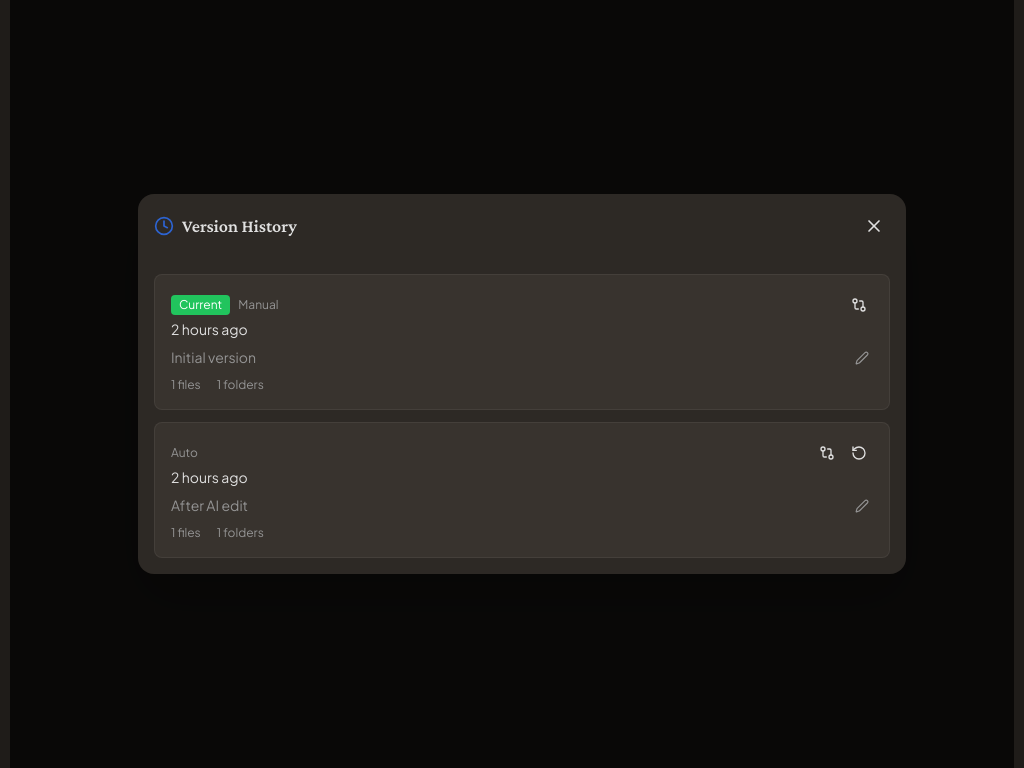
Test: VersionHistoryPanel › selects snapshot for comparison
Check: the text "Initial version" is shown, box [171,348,256,366]
# Click first compare button - use the translated title text
Click the button titled "Select for comparison" in the row of "Manual": x=859, y=305 [845,291,873,319]
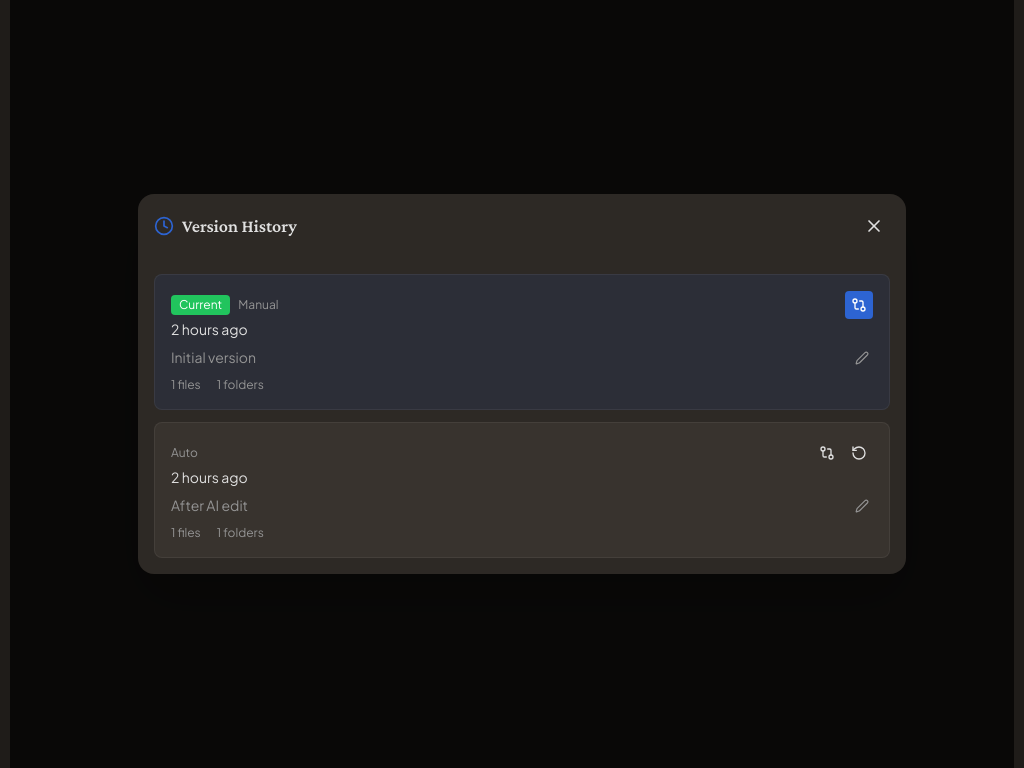
# Click second compare button
Click the button titled "Select for comparison" in the row of "Auto": x=827, y=453 [813,439,841,467]
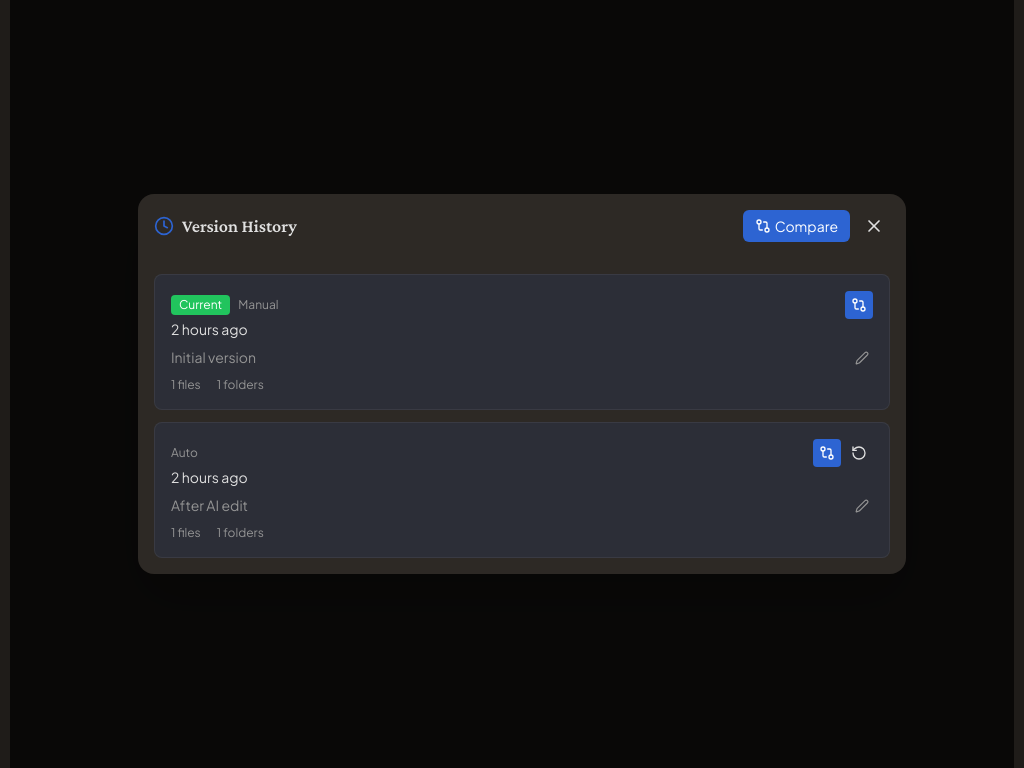
Check: the button "Compare" is shown, box [743,210,850,242]
